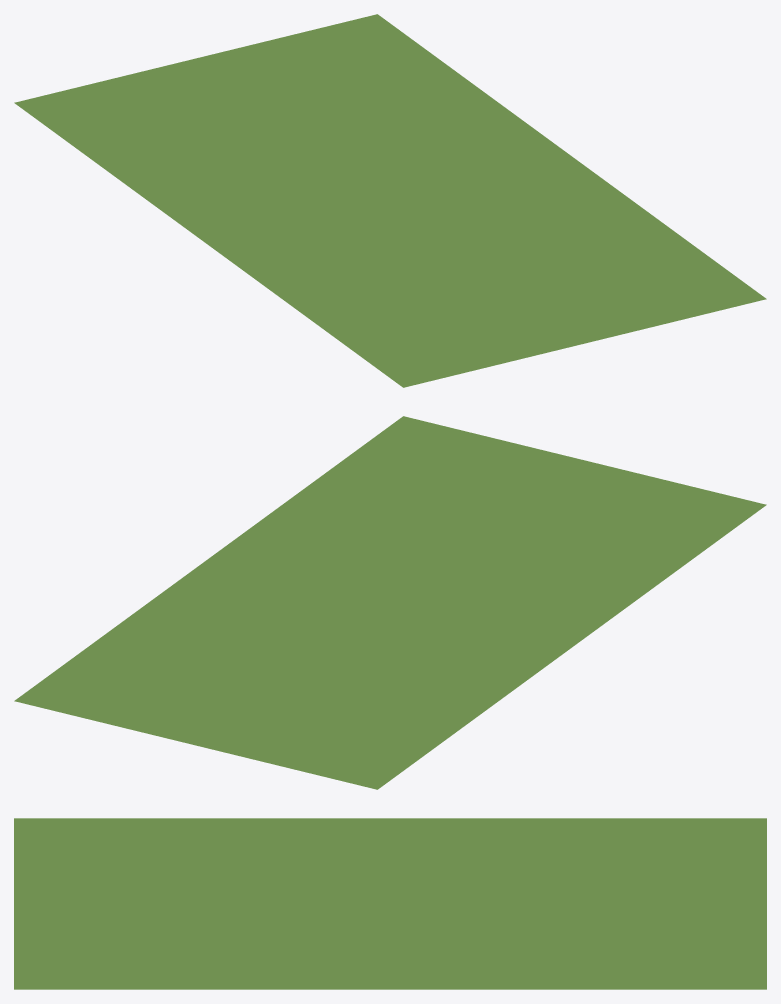
The model's file is sol.fbx.
3 views of the same model, one above another, from view 1: azimuth 30°, elevation 25°; view 2: azimuth 150°, elevation 25°; view 3: azimuth 270°, elevation 25° (orthographic). The views are drawn at different scales.
Parts seen in each view (by area): view 1: pPlane1; view 2: pPlane1; view 3: pPlane1.
Part boxes in pixels (x1=…): pPlane1: x1=14, y1=14, x2=766, y2=387; pPlane1: x1=14, y1=416, x2=766, y2=789; pPlane1: x1=14, y1=818, x2=766, y2=989.
Bounding box in the file's own units: 634 × 1.16e-13 × 1176.
